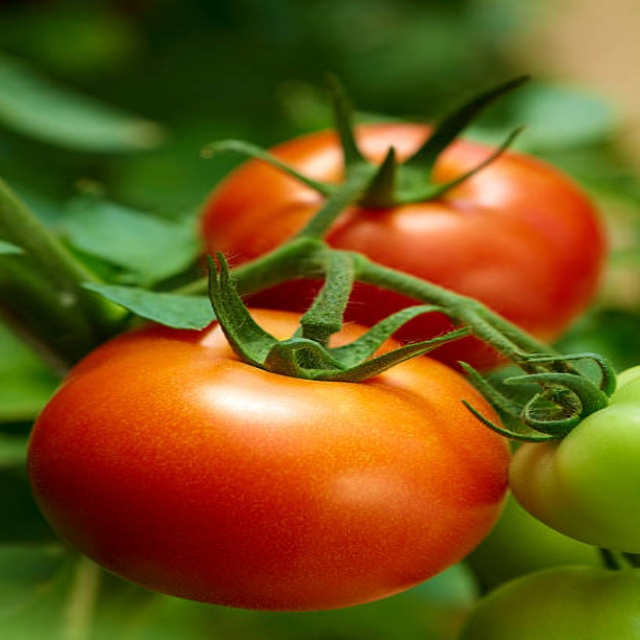tomato: (22, 296, 507, 611), (203, 126, 612, 367), (523, 378, 639, 555)
